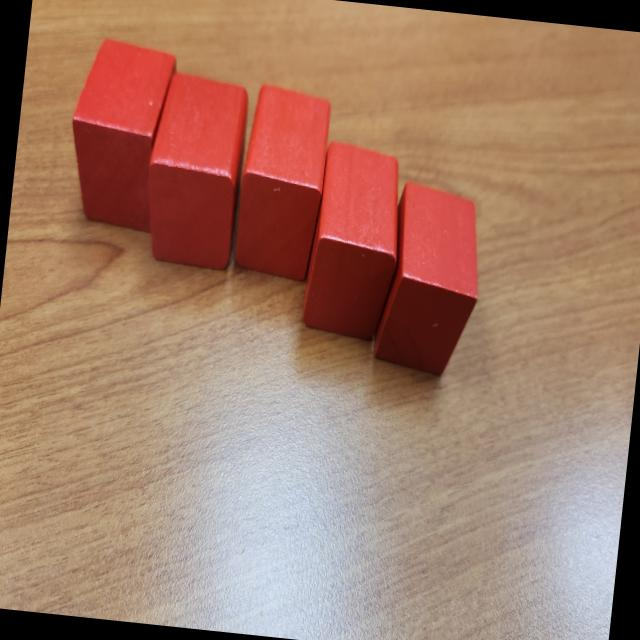red: (60, 35, 179, 234), (136, 70, 252, 272), (371, 180, 488, 380), (299, 141, 409, 343), (226, 82, 335, 282)
